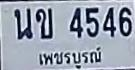4: (69, 7, 82, 37), (102, 6, 115, 36)
5: (85, 7, 98, 36)
6: (118, 6, 131, 36)
A02: (35, 7, 52, 38)
A25: (13, 7, 32, 39)
PNB: (35, 47, 104, 70)
